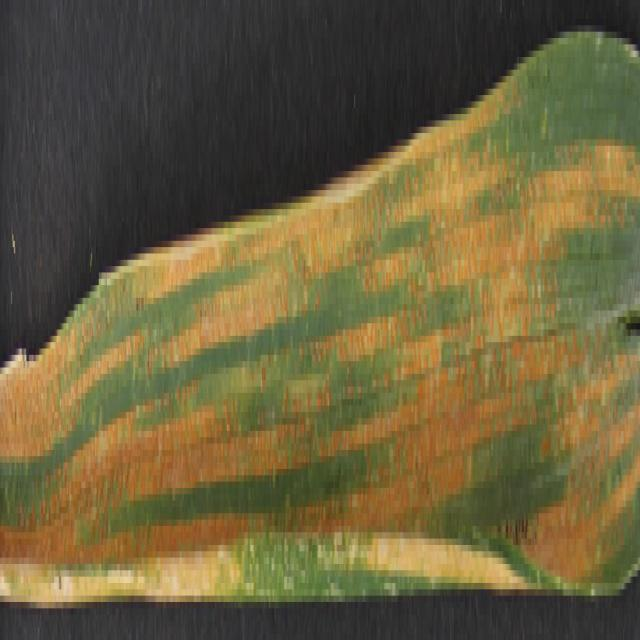leaf rust: (1, 158, 640, 608)
